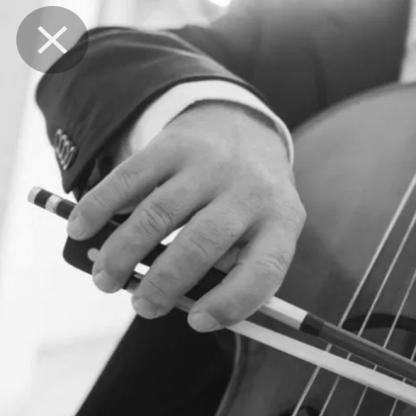good: (51, 96, 331, 352)
